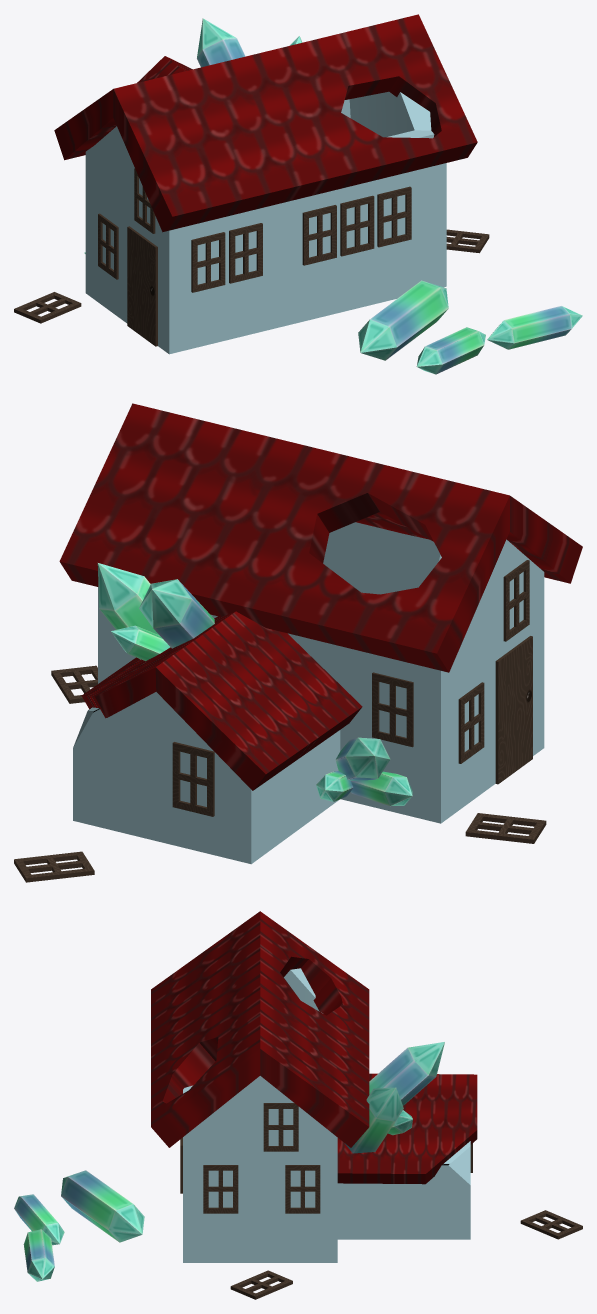
File: house destroyed.FBX
3 views of the same model, one above another, from view 1: azimuth 30°, elevation 25°; view 2: azimuth 150°, elevation 25°; view 3: azimuth 270°, elevation 25° (orthographic). The views are drawn at different scales.
Parts seen in each view (by area): view 1: Object002; view 2: Object002; view 3: Object002.
Boxes of the visible parts, x1,y1,x2,y2 form: Object002: (14, 14, 582, 374); Object002: (14, 403, 582, 882); Object002: (14, 911, 582, 1299).
Bounding box in the file's own units: 490 × 262 × 604.
